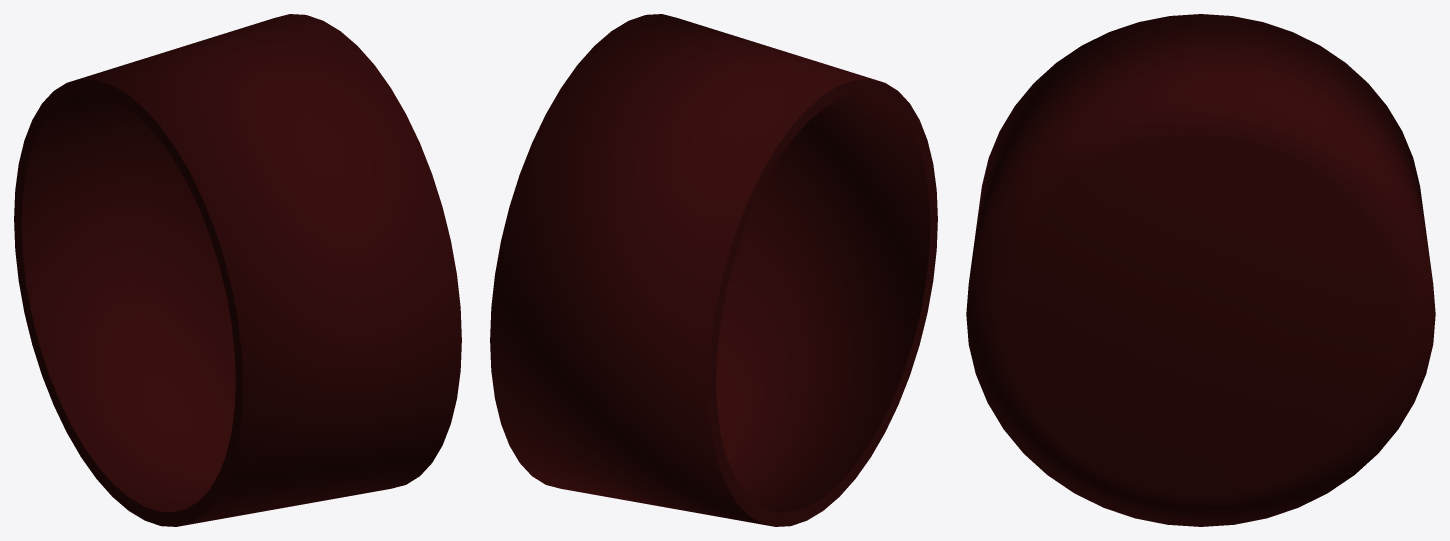
3 views of the same model, side by side, from view 1: azimuth 30°, elevation 25°; view 2: azimuth 150°, elevation 25°; view 3: azimuth 270°, elevation 25° (orthographic). The views are drawn at different scales.
Visible parts, largest first — view 1: base_2; view 2: base_2; view 3: base_2.
Boxes of the visible parts, left/top/right/bottom form: base_2: left=14, top=14, right=461, bottom=526; base_2: left=490, top=14, right=937, bottom=526; base_2: left=966, top=14, right=1435, bottom=526.
Bounding box in the file's own units: 0.015 × 0.027 × 0.027.
